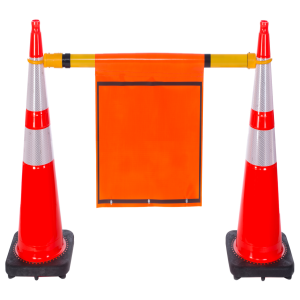traffic cone: (225, 20, 295, 281), (5, 19, 74, 282)
